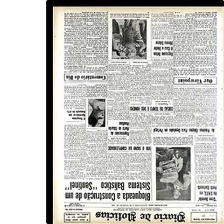news_paper: (49, 5, 224, 223)
